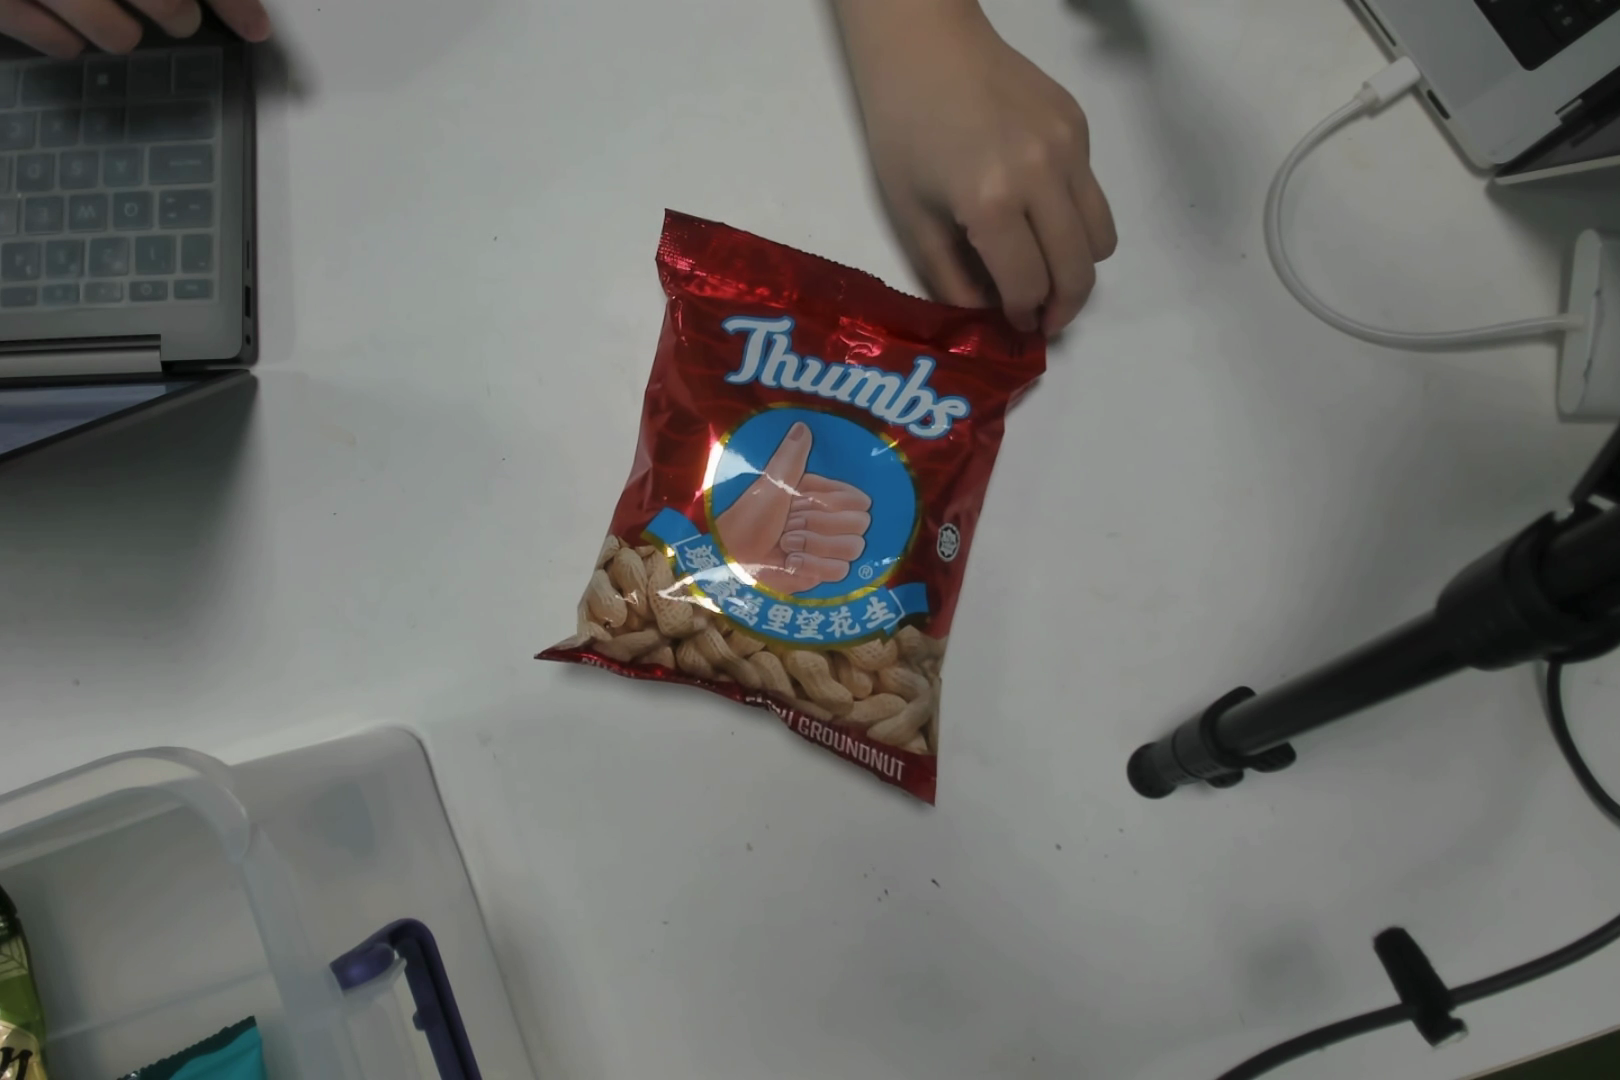Nuts_100-199g_Halal_NonHealthy: (607, 262, 1002, 762)
